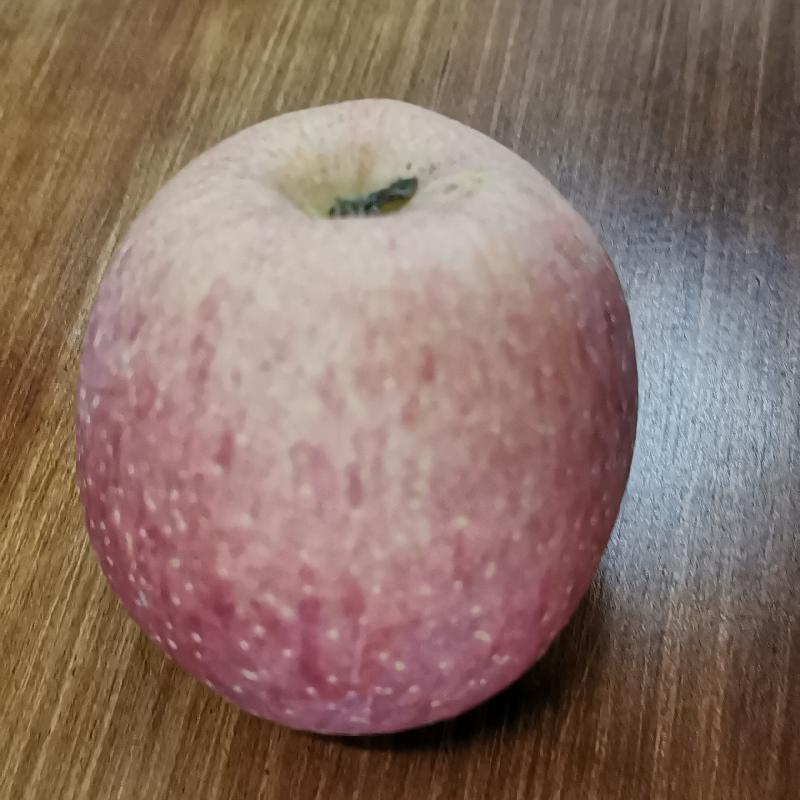apples: (72, 91, 646, 740)
